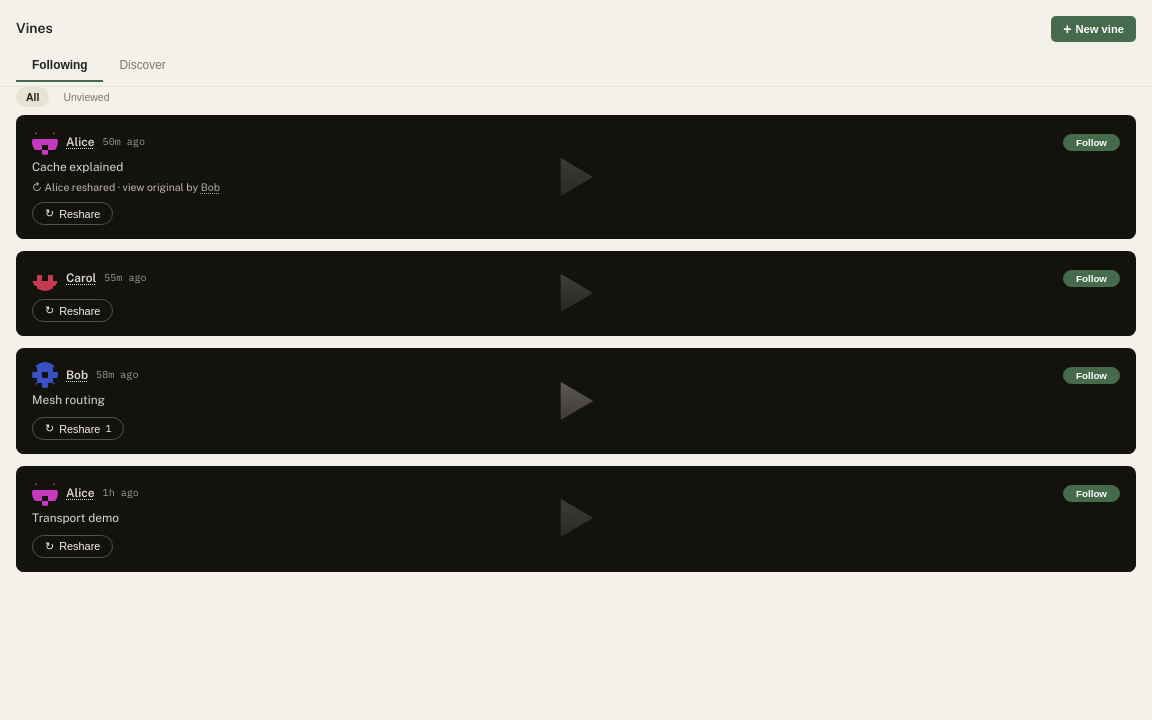
Test: VineFeed Integration › shows empty state when all vines are viewed in Unviewed filter
Click the button "Unviewed": click(86, 97) [53,87,120,107]
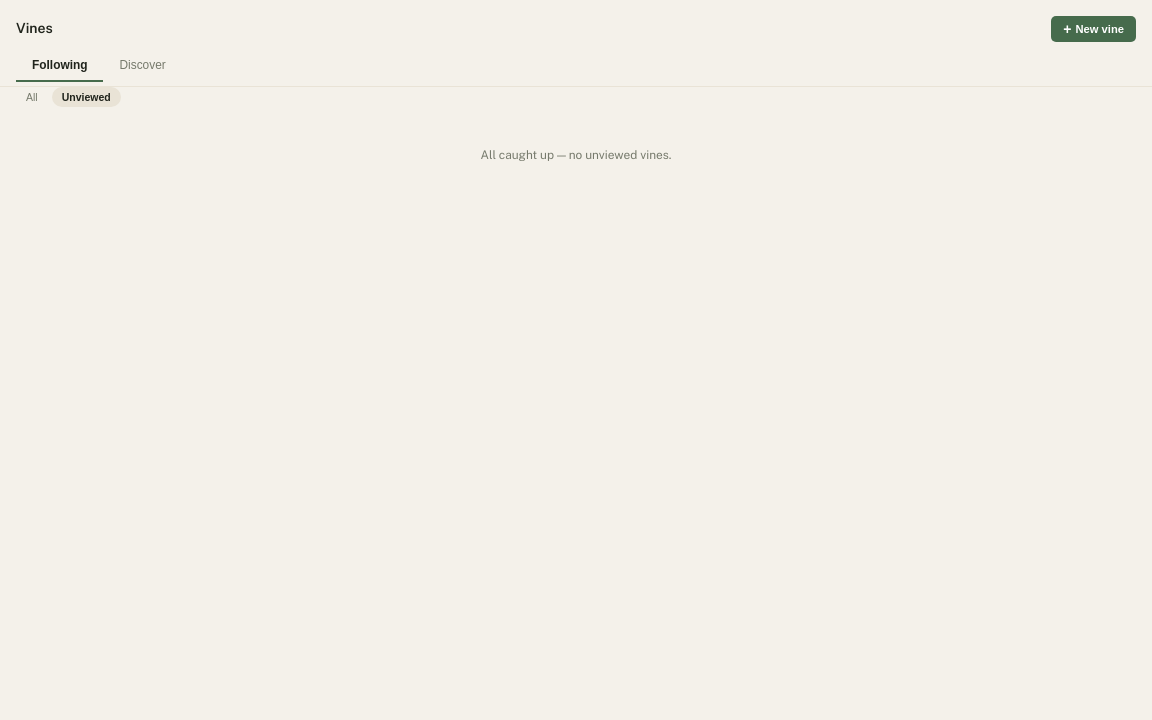
Result: the text "All caught up — no unviewed vines." is shown at [480,147,671,164]
